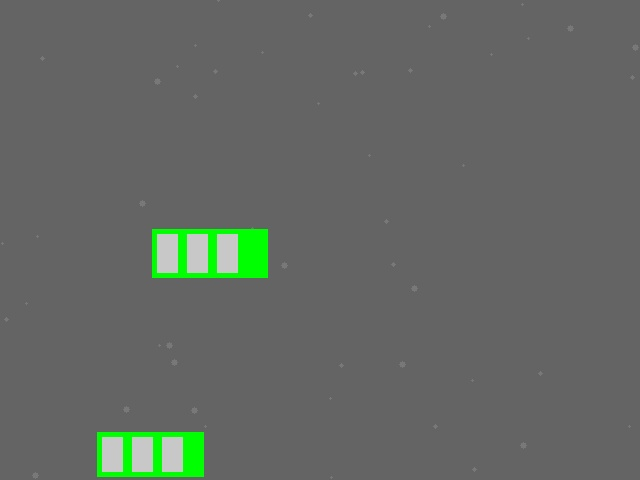bus: (152, 229, 267, 277), (97, 432, 203, 476)
